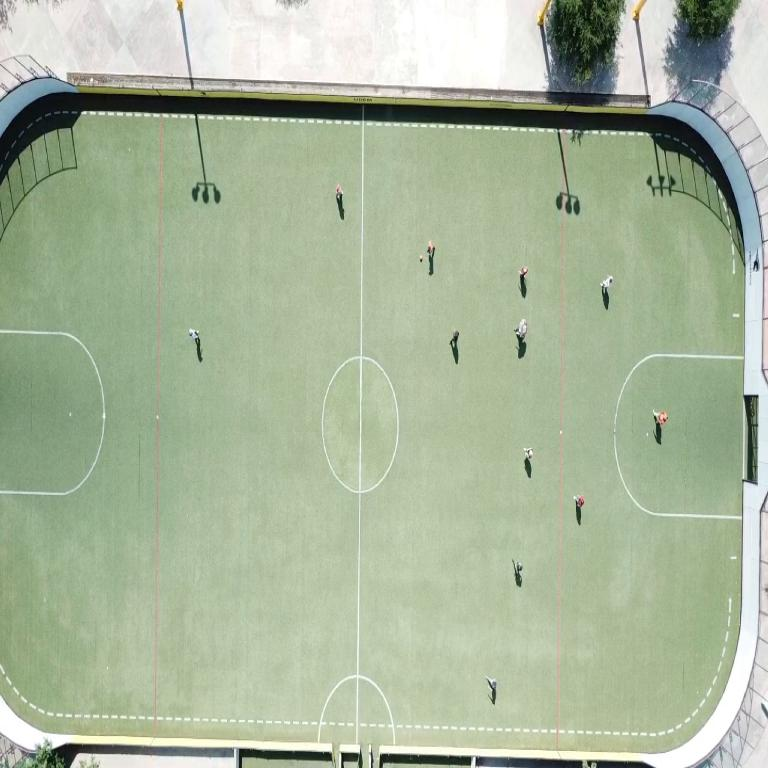AC: (615, 354, 742, 520), (0, 330, 105, 497)
B: (419, 255, 422, 260)
MC: (356, 106, 364, 742)
P: (515, 318, 527, 340), (486, 677, 496, 703), (653, 410, 667, 426), (602, 276, 613, 291), (450, 330, 459, 347), (574, 494, 584, 509), (189, 328, 199, 342), (513, 562, 523, 575), (427, 240, 434, 258), (336, 184, 343, 202), (524, 448, 533, 461), (519, 267, 527, 280)
